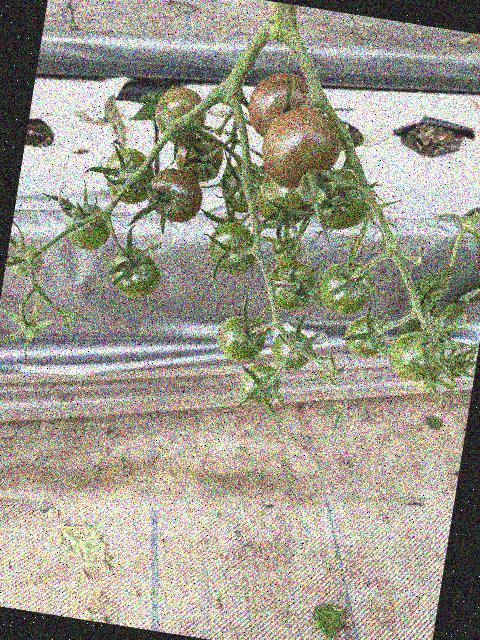l_green: (305, 164, 377, 235), (314, 256, 377, 318), (385, 326, 449, 385), (100, 144, 159, 208), (253, 170, 315, 229), (105, 244, 165, 303), (204, 218, 262, 276), (262, 257, 319, 315), (214, 313, 269, 365), (63, 201, 116, 253), (219, 162, 265, 215), (342, 311, 391, 360), (268, 326, 315, 374), (236, 359, 283, 407), (8, 240, 46, 280), (269, 234, 303, 266), (439, 352, 466, 380), (412, 371, 439, 395), (216, 214, 243, 233), (21, 322, 42, 339)
l_half_ripened: (256, 102, 347, 195), (243, 68, 324, 146), (150, 83, 211, 148), (143, 164, 206, 226), (170, 127, 228, 185)
